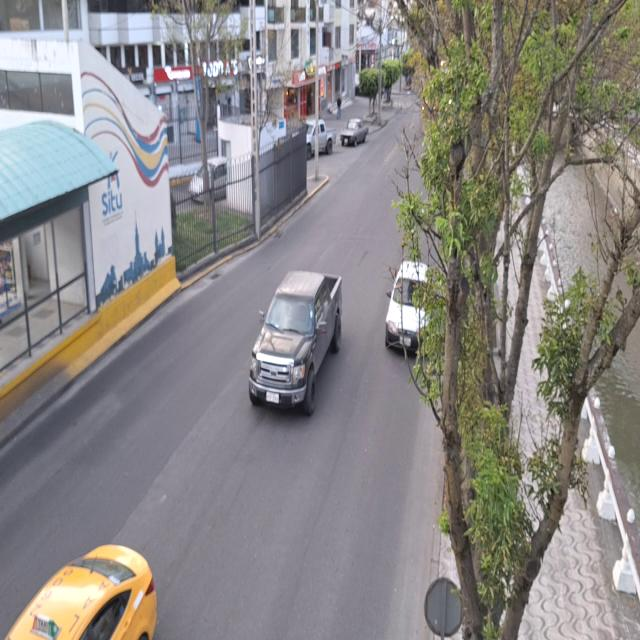CMT: (248, 274, 340, 418), (339, 116, 370, 149)
SED: (2, 538, 158, 639)
